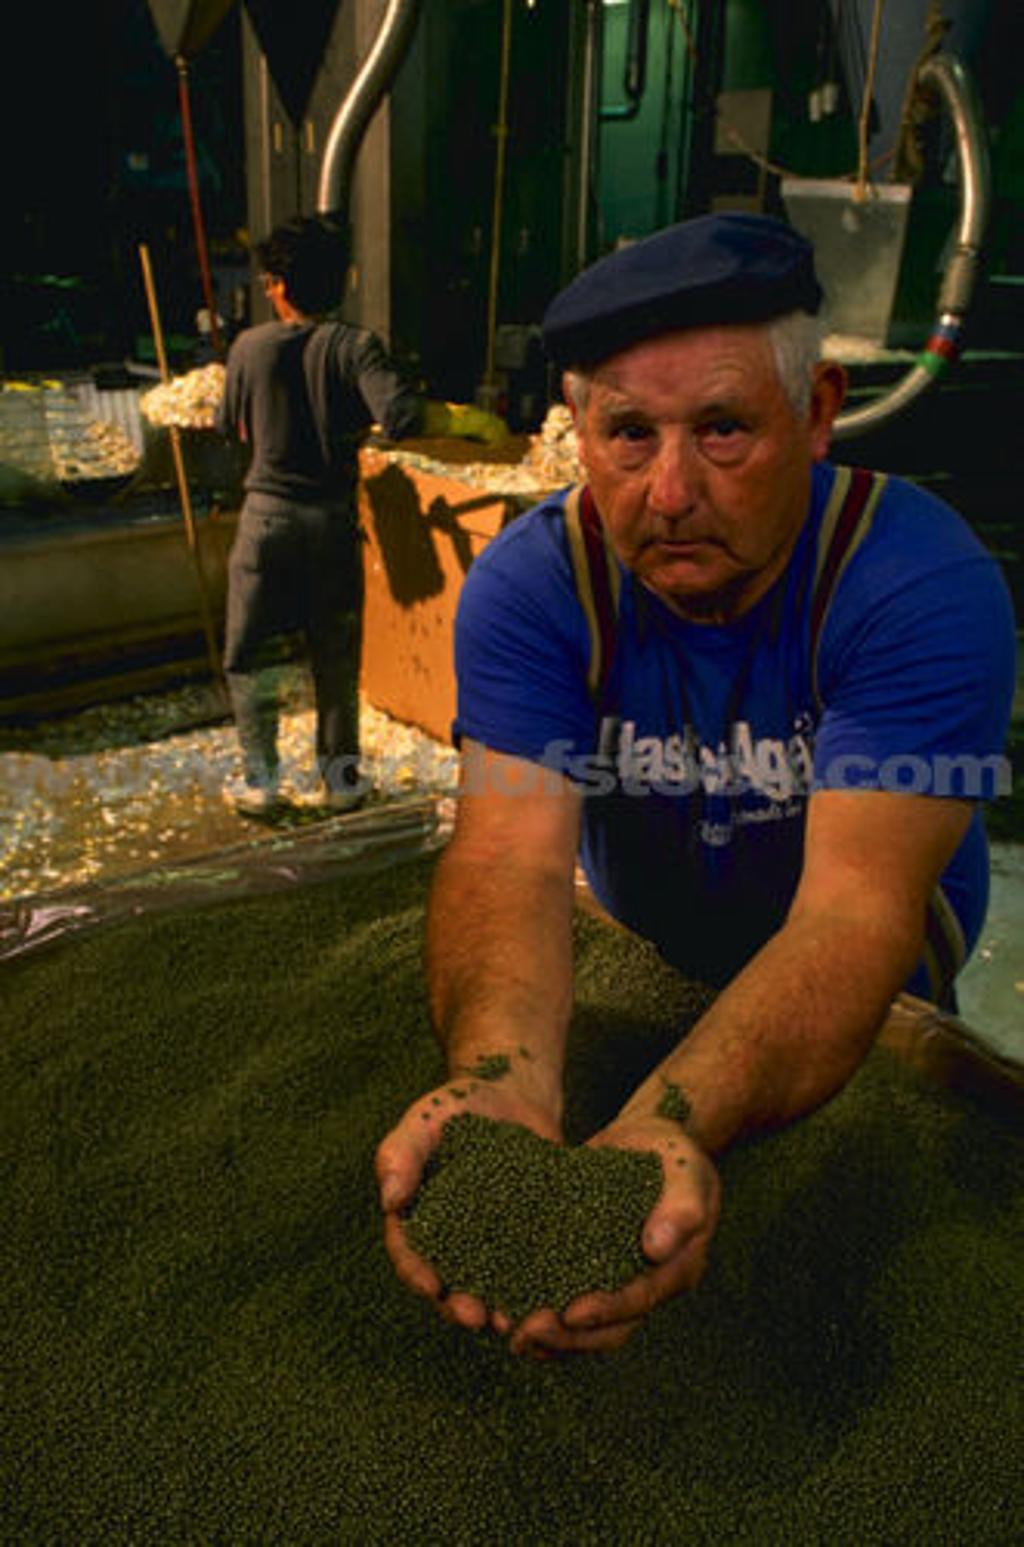face: (581, 312, 789, 587)
